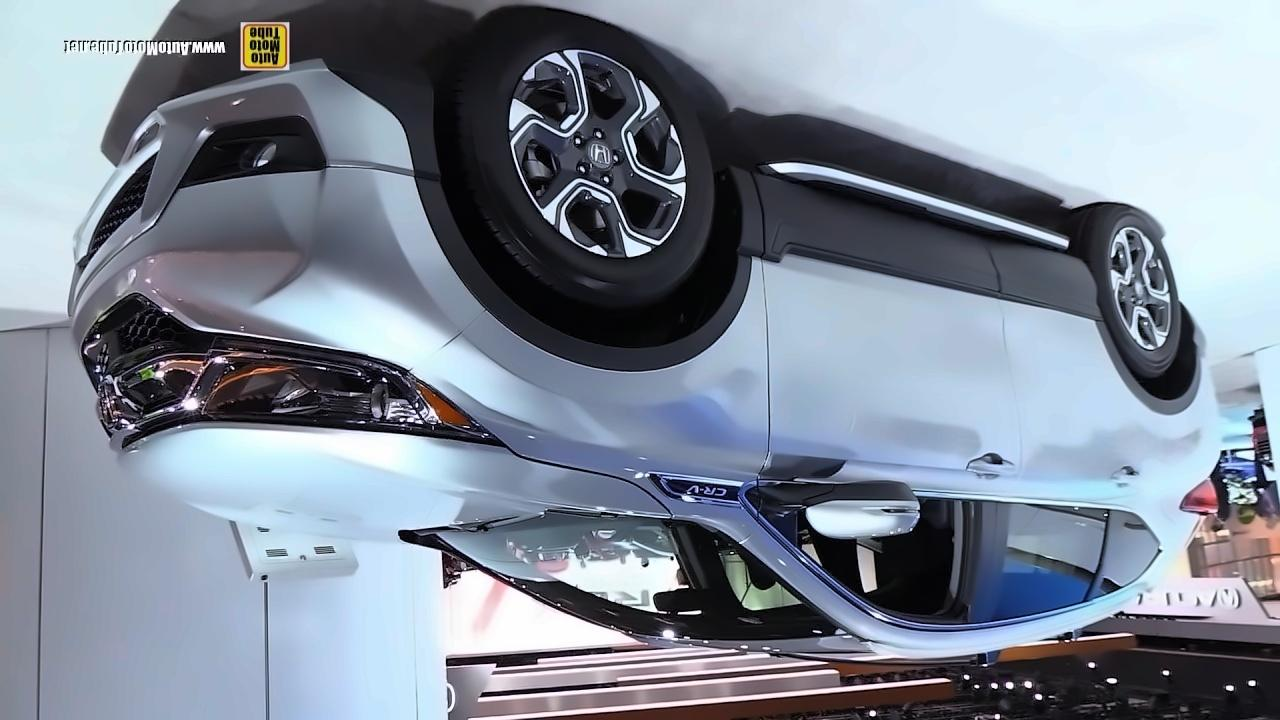Car hood: (121, 415, 675, 542)
Driver-s door - -F-R-: (732, 121, 1028, 659)
Fender - -F-R-: (404, 171, 777, 543)
Fender - -R-R-: (1065, 302, 1213, 564)
Front bumper: (68, 50, 495, 379)
Headlight - -R-: (183, 339, 508, 448)
Passenger-s door - -R-R-: (967, 167, 1136, 663)
Side bumper - -R-: (709, 133, 1112, 327)
Side mirror - -R-: (756, 473, 923, 541)
